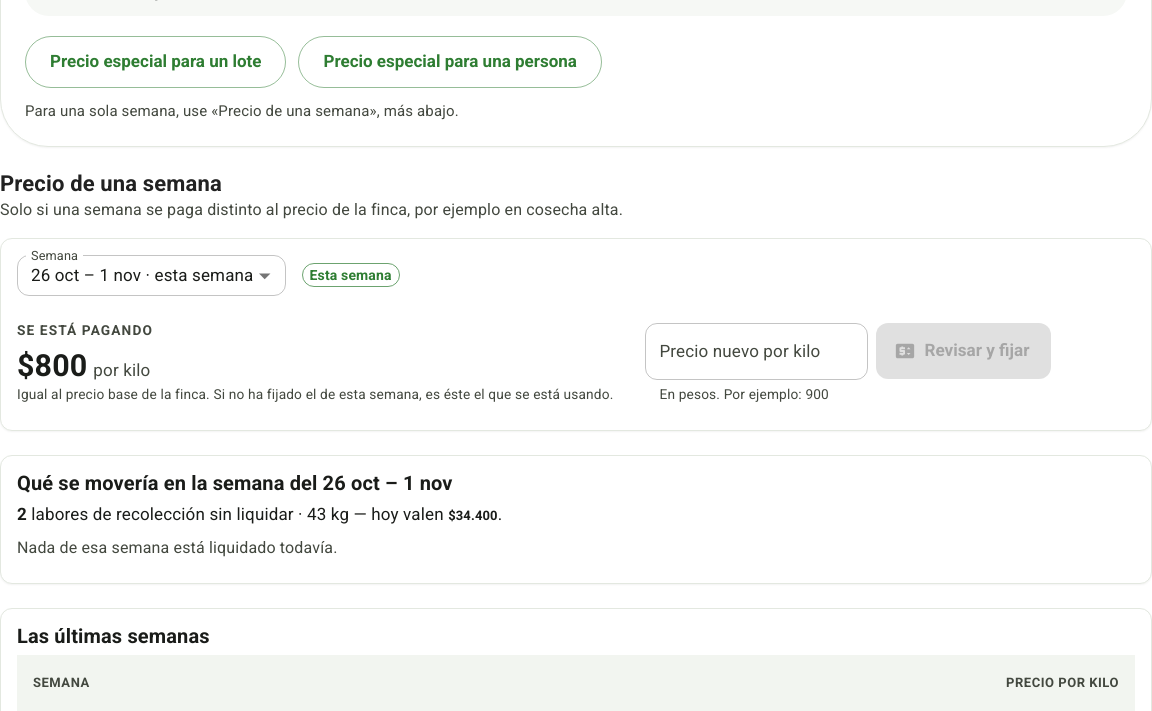
Test: setting the week's price per kilo › says what moves before it moves it
(page scrolled)
Type "1600" into the field labelled "Precio nuevo por kilo" at [757, 351], box [645, 323, 868, 380]
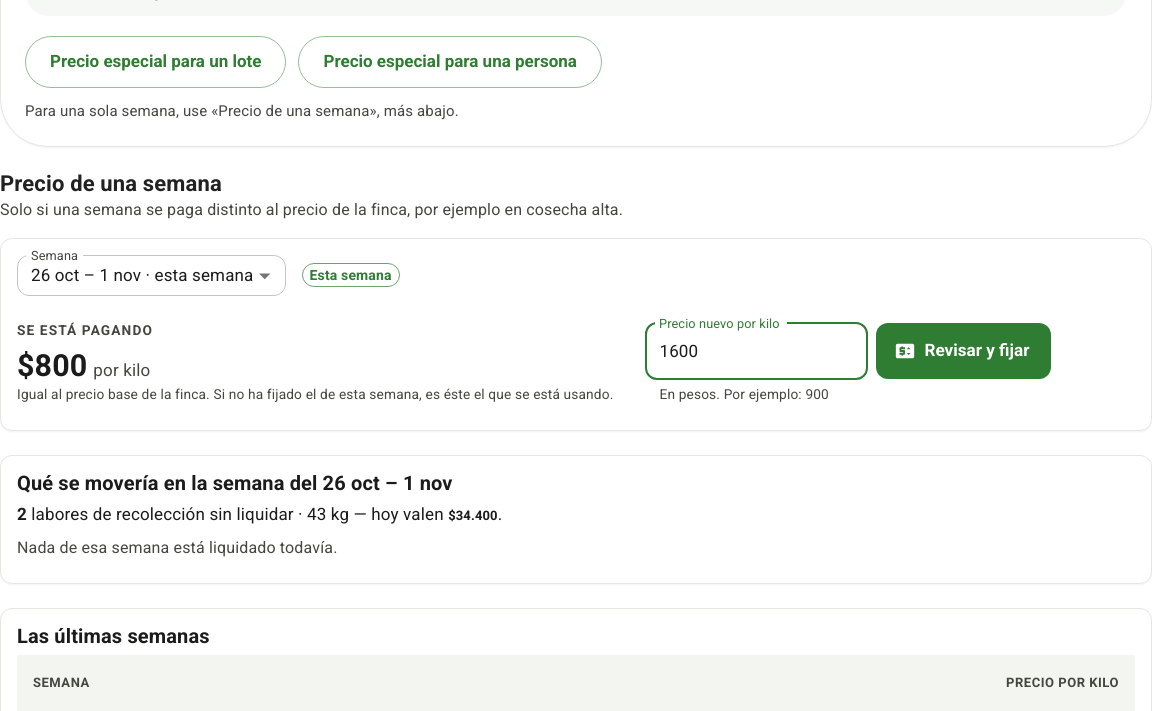
Click the button "Revisar y fijar" at [964, 351], box [876, 323, 1051, 379]
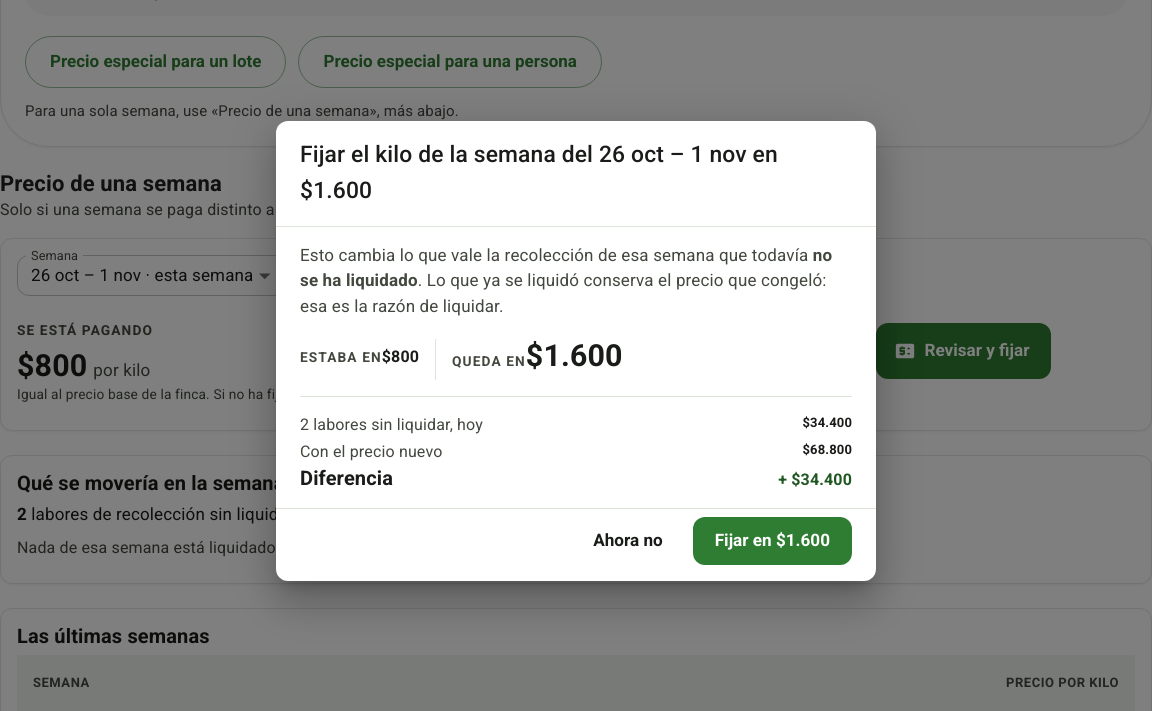
Check: the heading "Diferencia" is shown, box [300, 467, 393, 490]
Check: the text "Con el precio nuevo" is shown, box [300, 440, 442, 463]
Check: the text "no se ha liquidado" is shown, box [300, 245, 832, 290]
